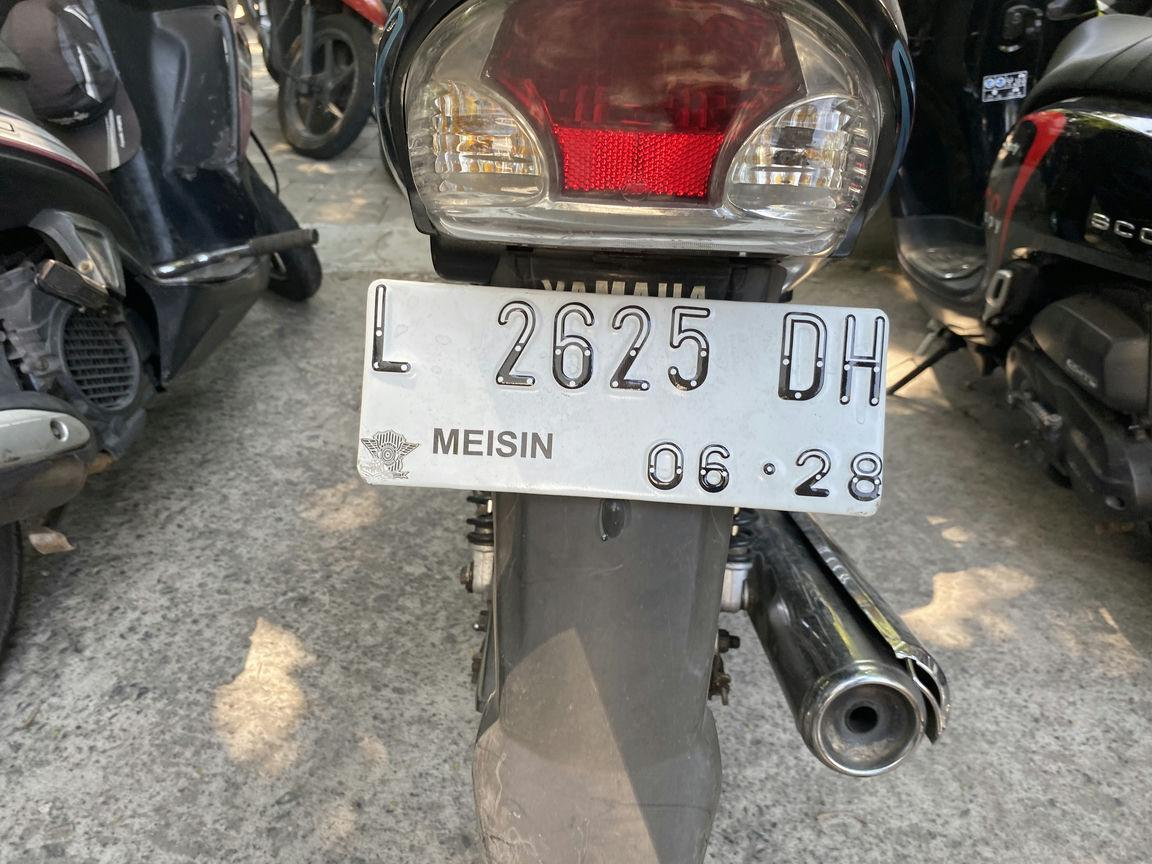plat: (358, 279, 889, 515)
